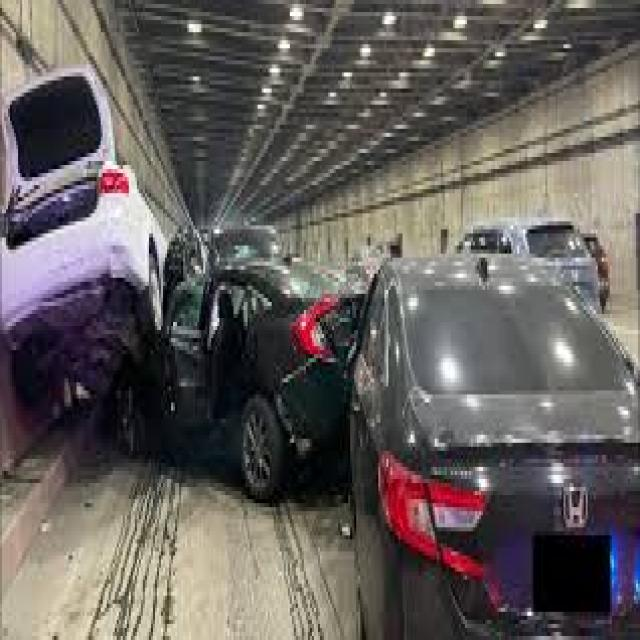accident: (2, 81, 346, 495)
